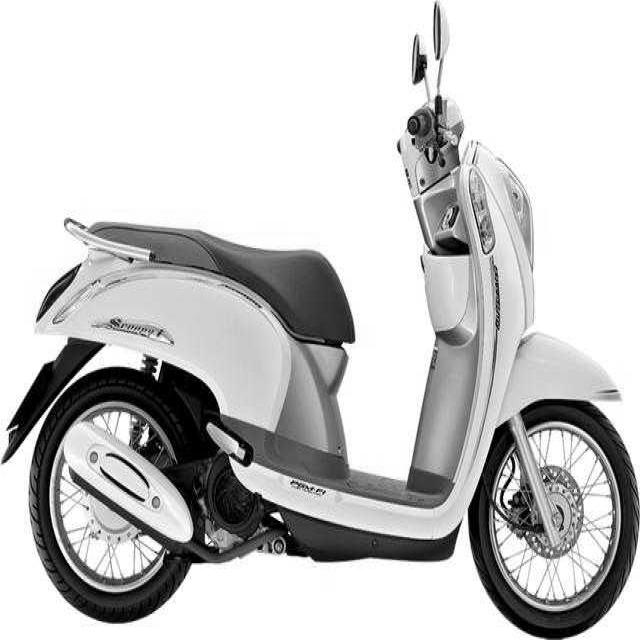Motorcycle: (4, 92, 640, 636)
